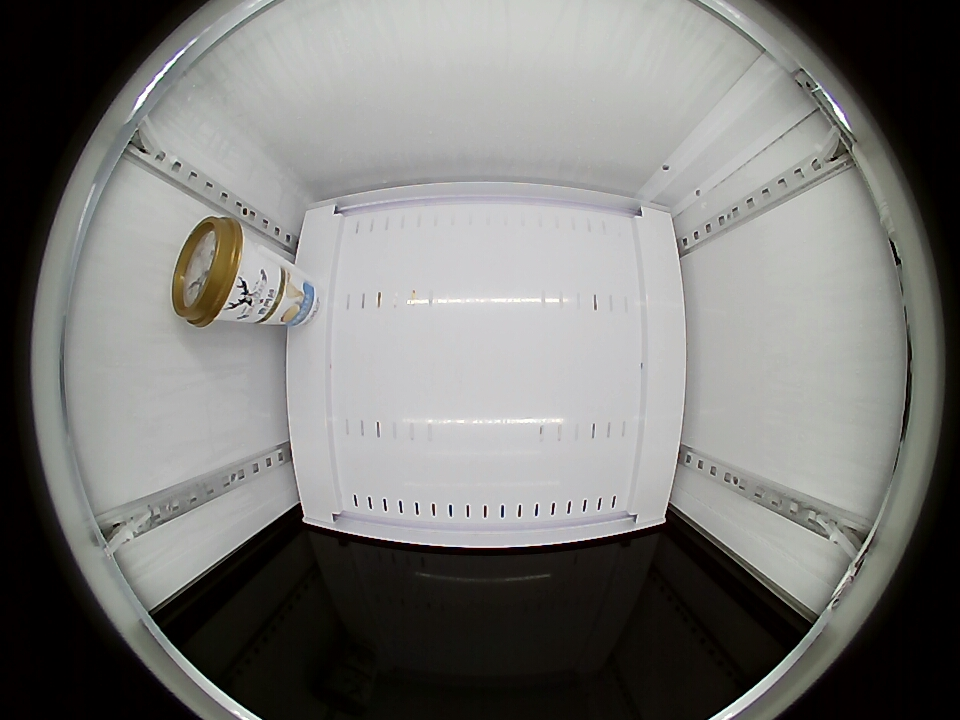lujiaoxiang: (172, 215, 252, 327)
